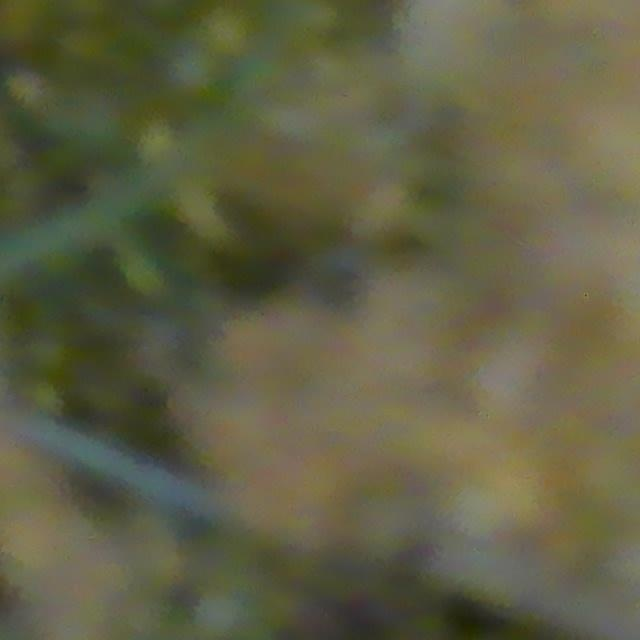SeaGrape: (163, 41, 225, 106), (200, 3, 257, 62)
